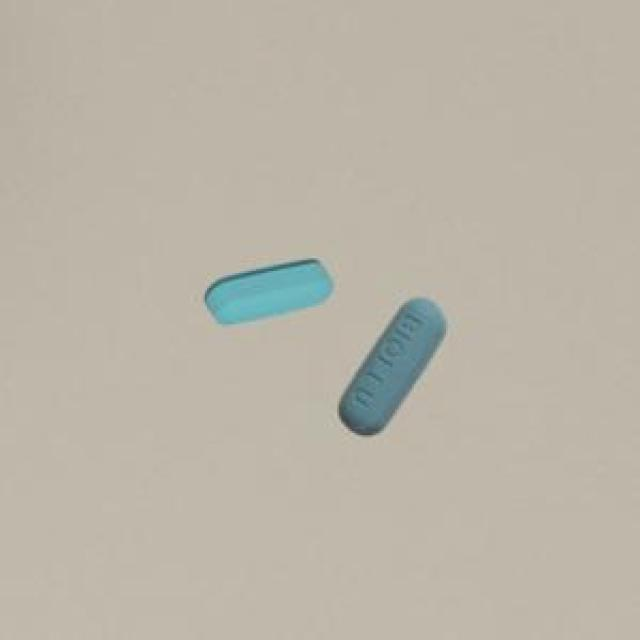Bioflu: (343, 282, 453, 439), (200, 235, 335, 324)
